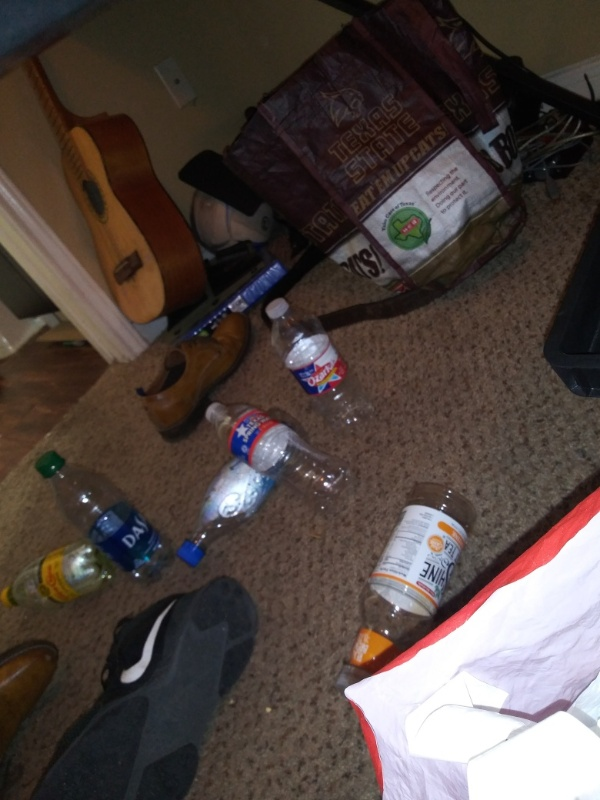bottle: (331, 479, 483, 710), (170, 411, 315, 571), (31, 445, 181, 590), (196, 399, 363, 519), (257, 292, 381, 433), (1, 538, 122, 614)
